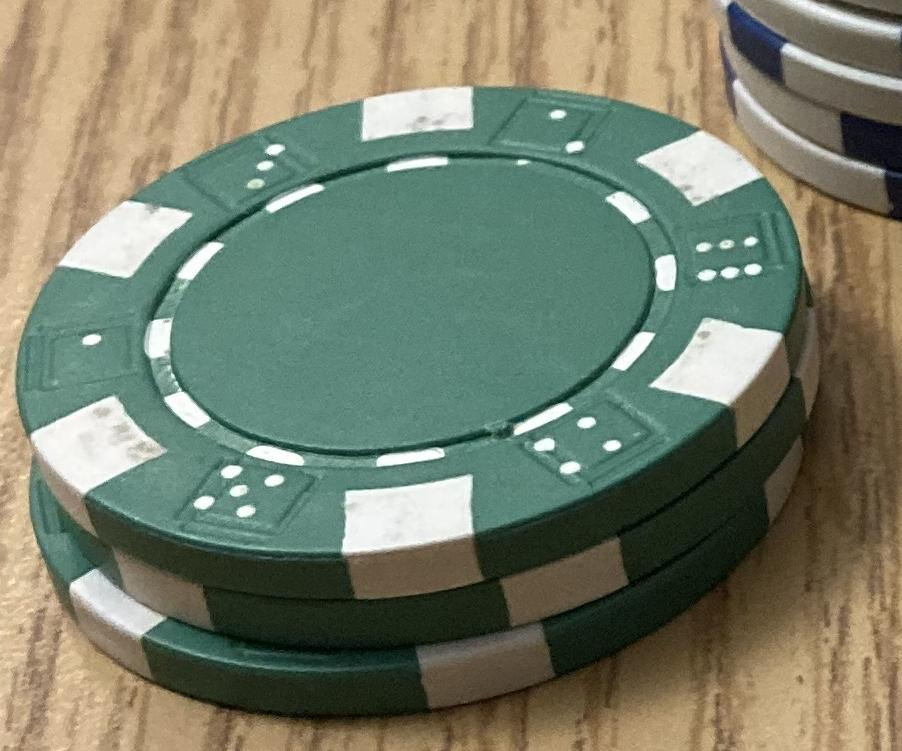Chip: (1, 1, 902, 751)
